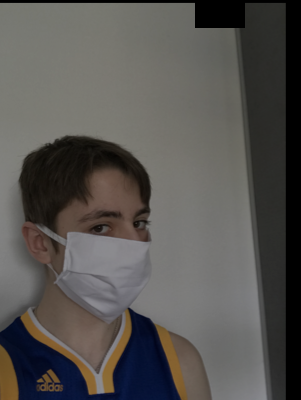with_mask: (55, 199, 153, 324)
